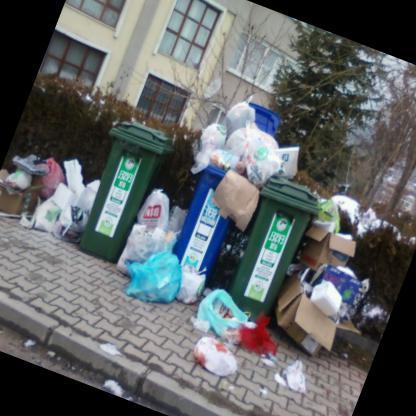Garbage: (262, 249, 372, 367), (189, 106, 307, 196), (0, 135, 84, 253), (0, 148, 98, 246), (110, 240, 215, 326), (112, 191, 183, 293), (284, 216, 364, 302), (186, 293, 252, 347), (183, 334, 240, 380), (232, 310, 282, 358)
